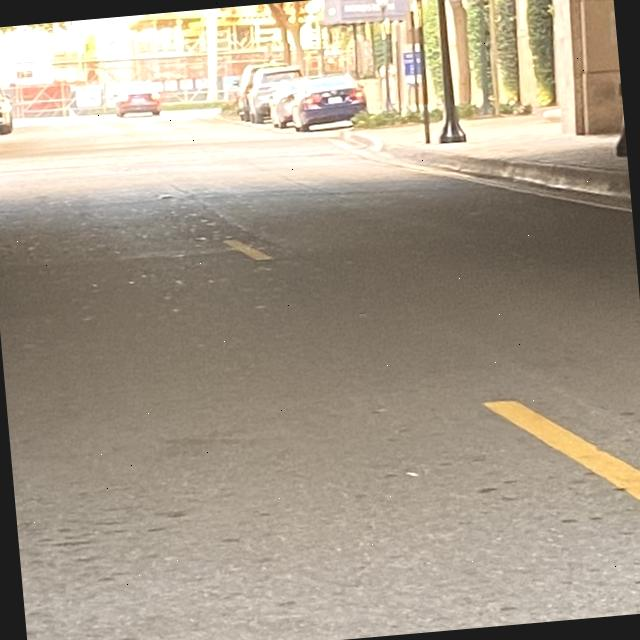curb: (332, 130, 631, 211)
